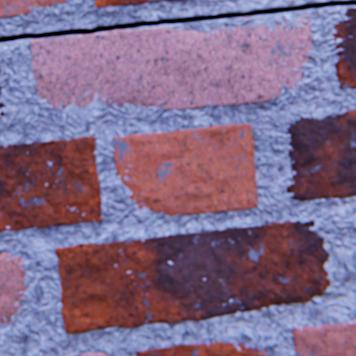brick: (55, 220, 329, 332), (31, 14, 310, 109), (112, 123, 257, 214), (0, 136, 102, 230), (285, 109, 355, 199), (290, 321, 355, 355), (0, 252, 28, 323), (136, 340, 268, 355), (331, 8, 355, 88), (0, 0, 66, 17), (95, 0, 167, 7), (64, 351, 114, 355), (0, 102, 5, 107)
crack: (0, 0, 355, 42)
